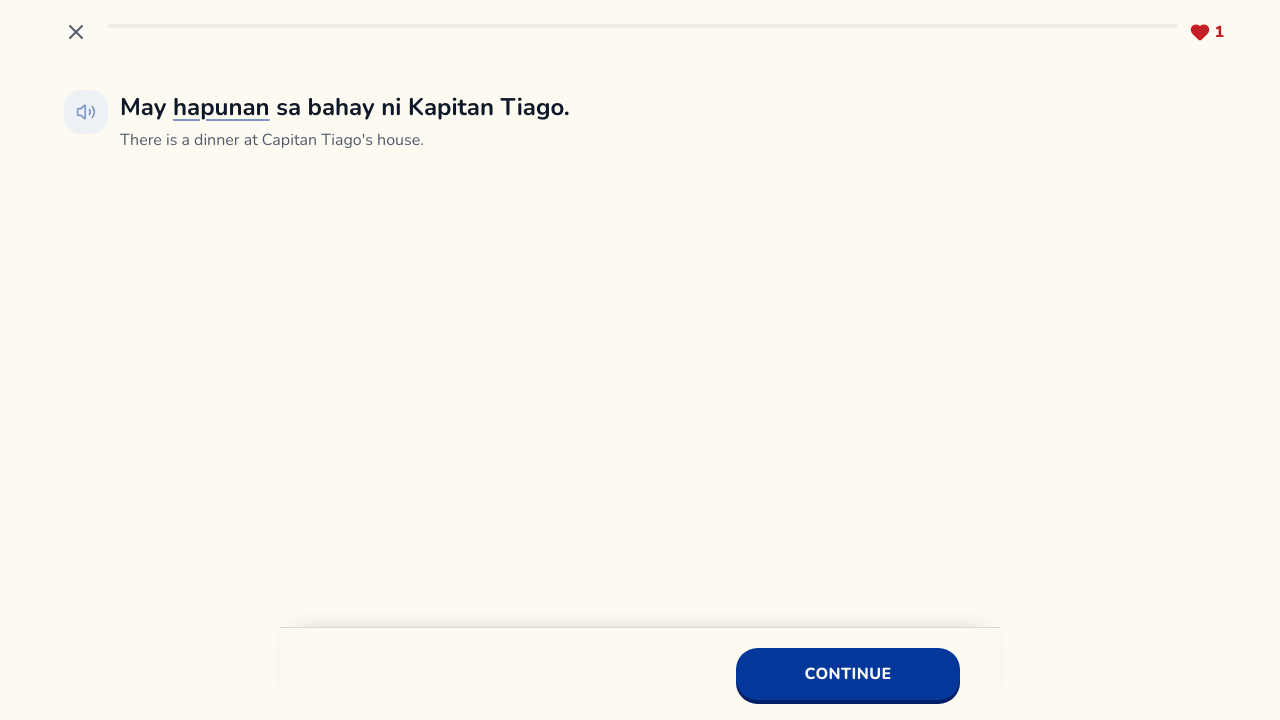
end screen sun › is absent on Out of hearts
The image size is (1280, 720).
Click the button "Continue". click: (848, 674)
box: [736,648,960,700]
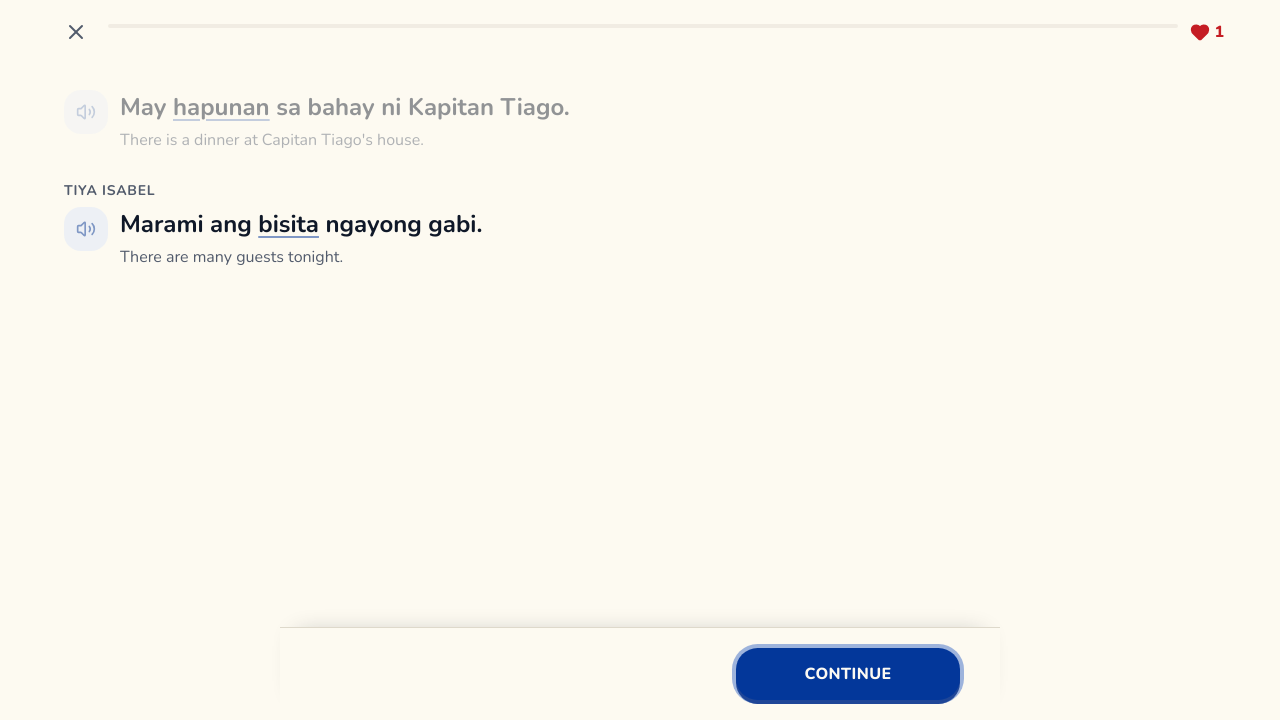
Click the button "Continue". click: (848, 674)
box: [736,648,960,700]
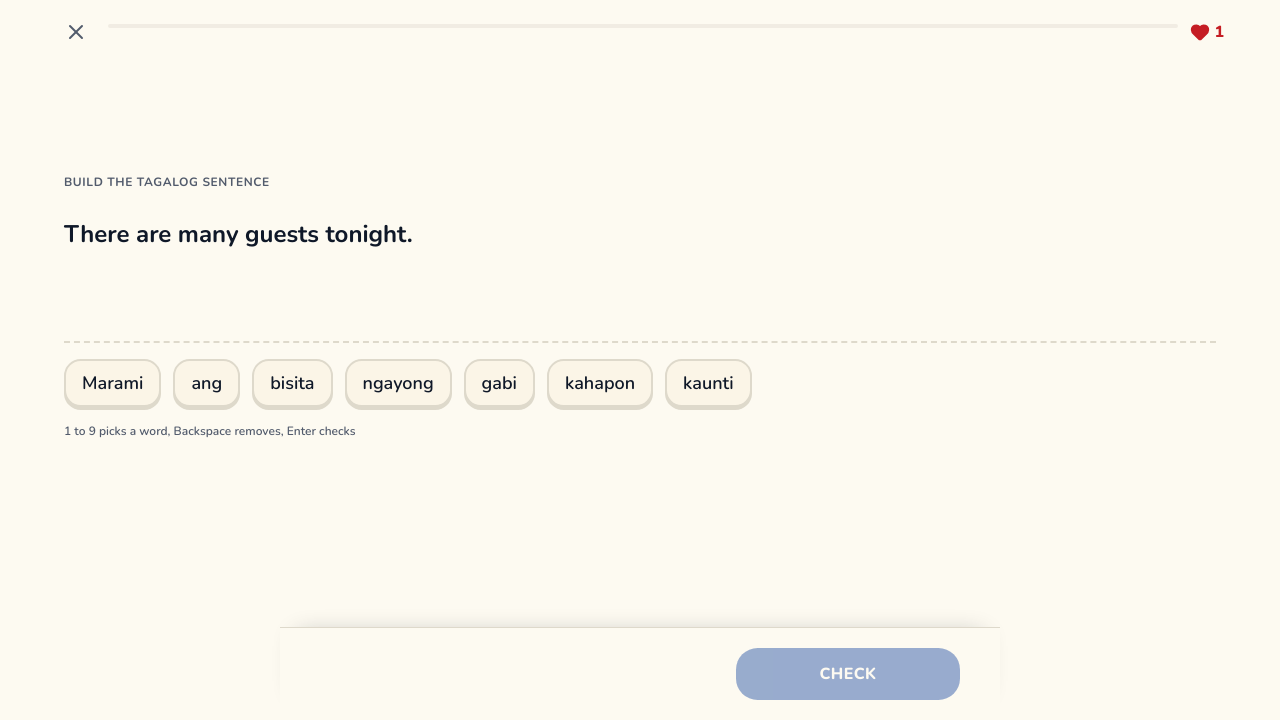
Click the button "gabi". click: (499, 383)
box: [464,359,535,407]
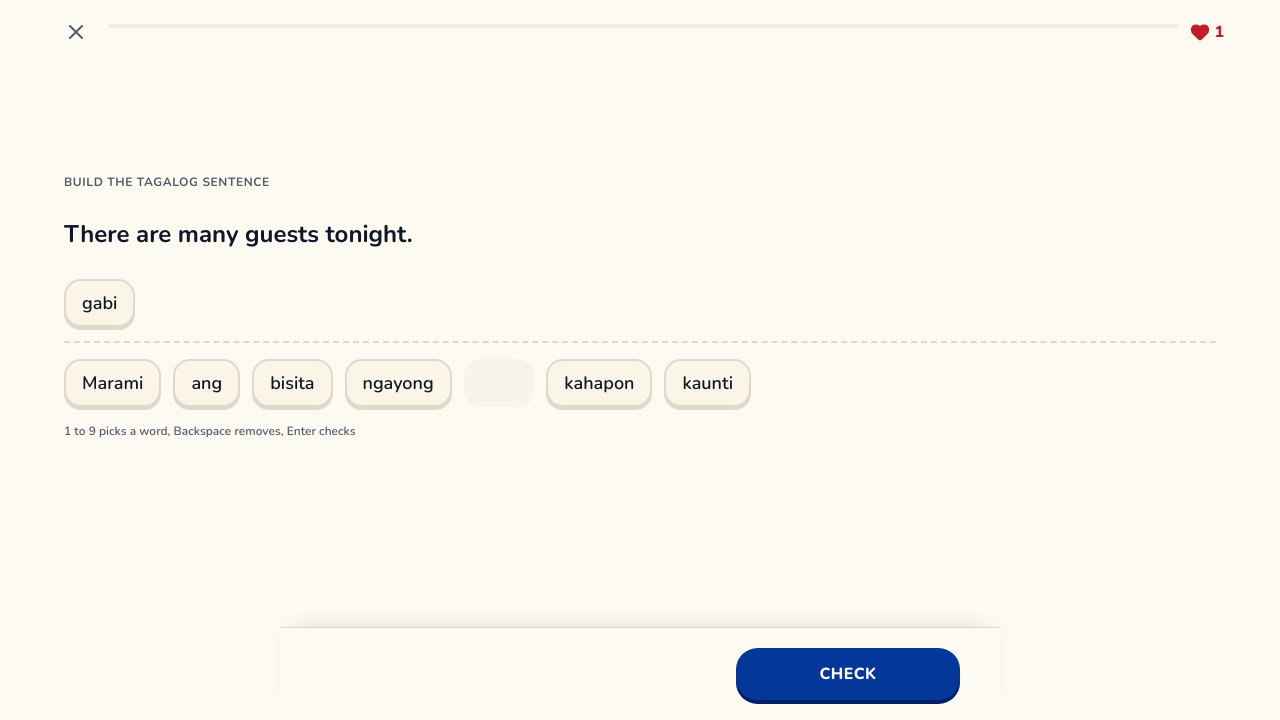
Click the button "Check". click: (848, 674)
box: [736,648,960,700]
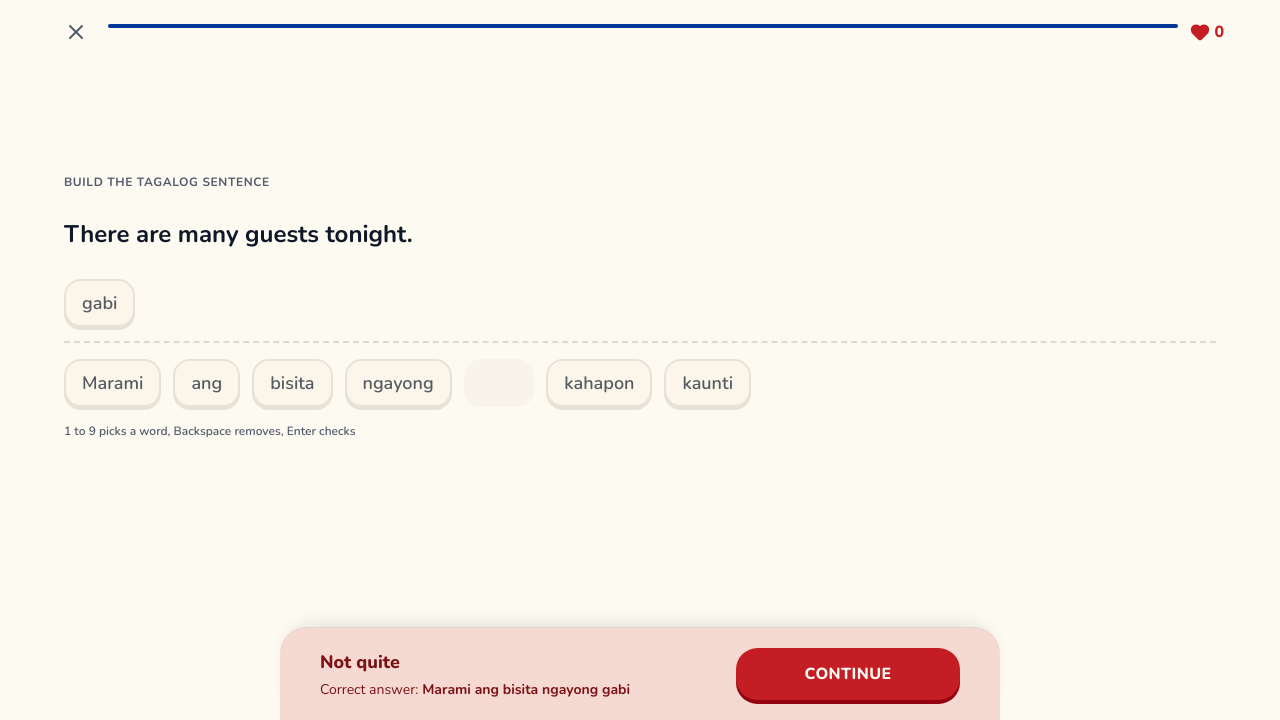
Click the button "Continue". click: (848, 674)
box: [736,648,960,700]
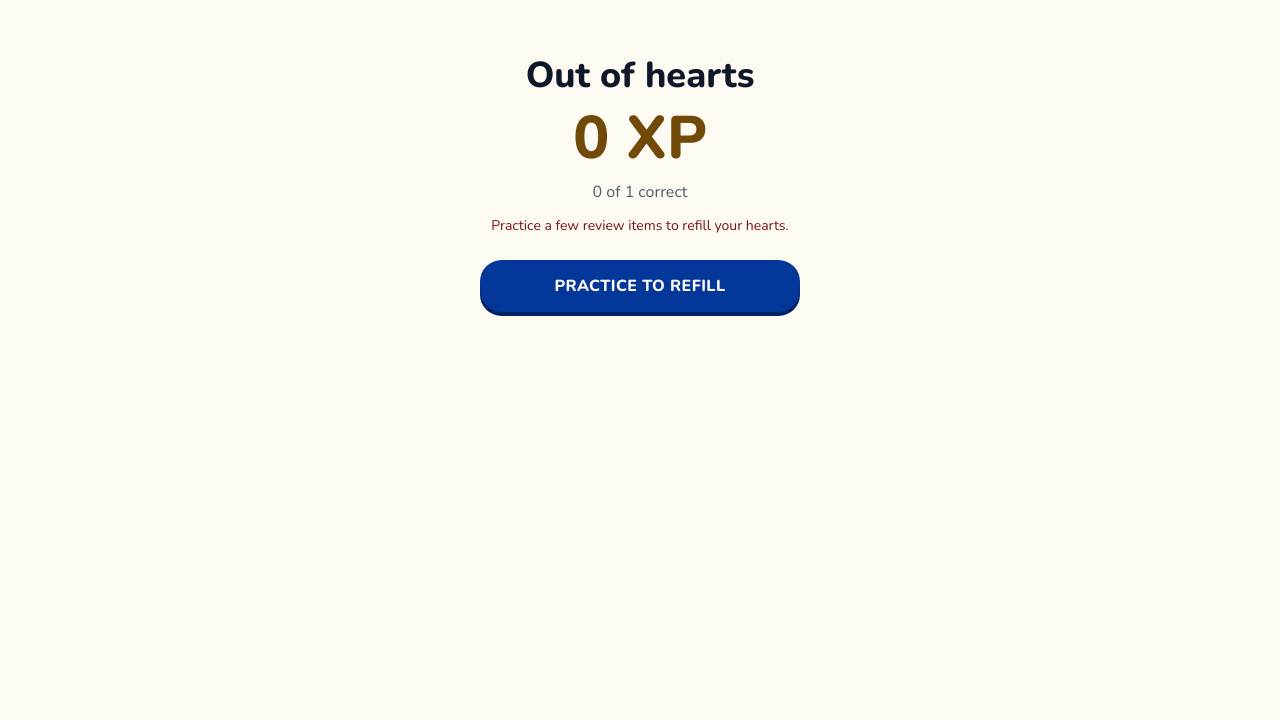
Expected: the heading "Out of hearts" is shown, [526,56,754,96]
